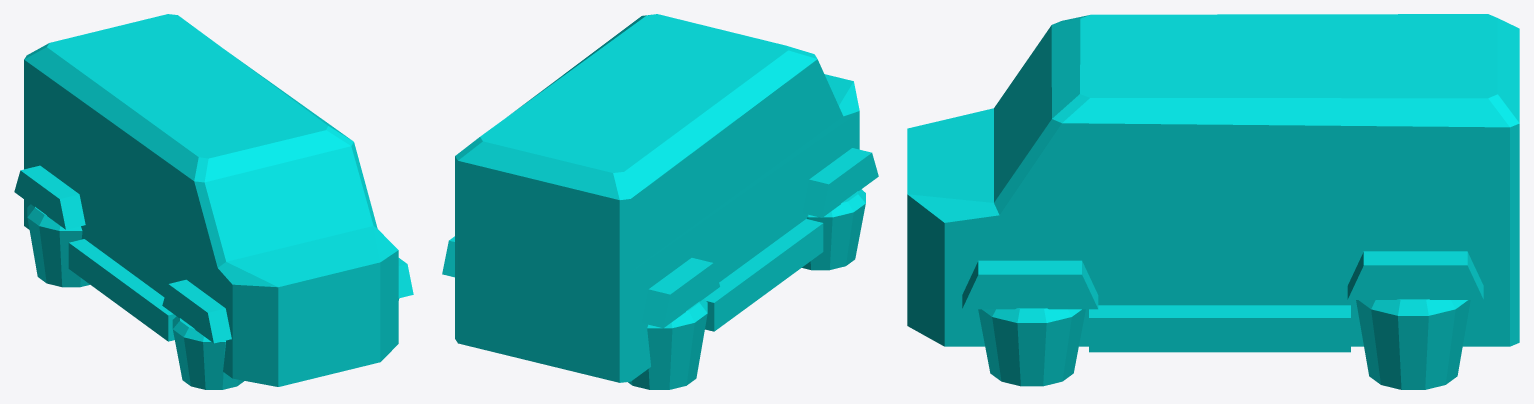
The model's file is SM_Veh_SUV_01_Collision.fbx.
3 views of the same model, side by side, from view 1: azimuth 30°, elevation 25°; view 2: azimuth 150°, elevation 25°; view 3: azimuth 270°, elevation 25° (orthographic). The views are drawn at different scales.
Visible parts, largest first — view 1: SM_Veh_SUV_01_Collision; view 2: SM_Veh_SUV_01_Collision; view 3: SM_Veh_SUV_01_Collision.
Boxes of the visible parts, x1,y1,x2,y2 form: SM_Veh_SUV_01_Collision: [14, 14, 413, 389]; SM_Veh_SUV_01_Collision: [442, 14, 878, 389]; SM_Veh_SUV_01_Collision: [907, 14, 1519, 389].
Size of the model in its own units: 357 by 321 by 662.
